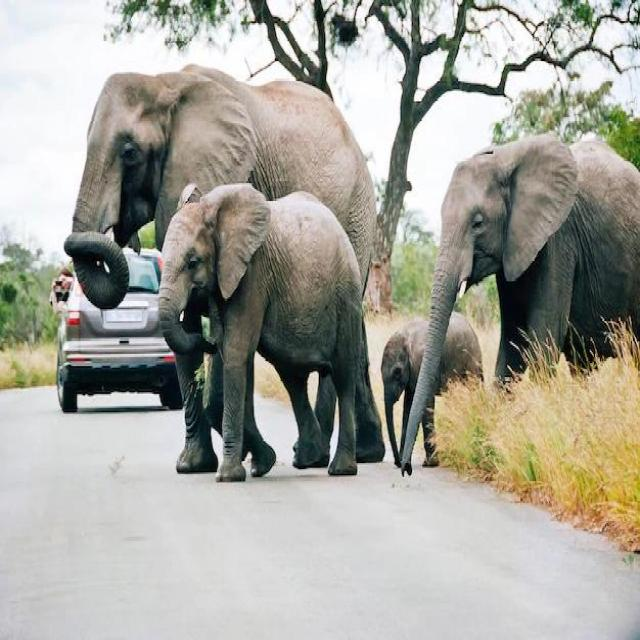Elephant: (63, 60, 387, 464), (400, 129, 640, 504), (149, 178, 361, 478), (378, 306, 500, 478), (0, 607, 48, 640)
